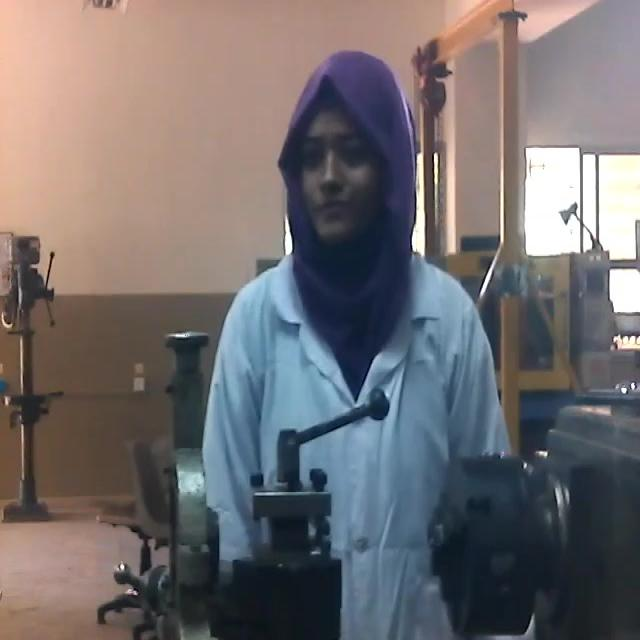labcoat: (207, 241, 513, 640)
